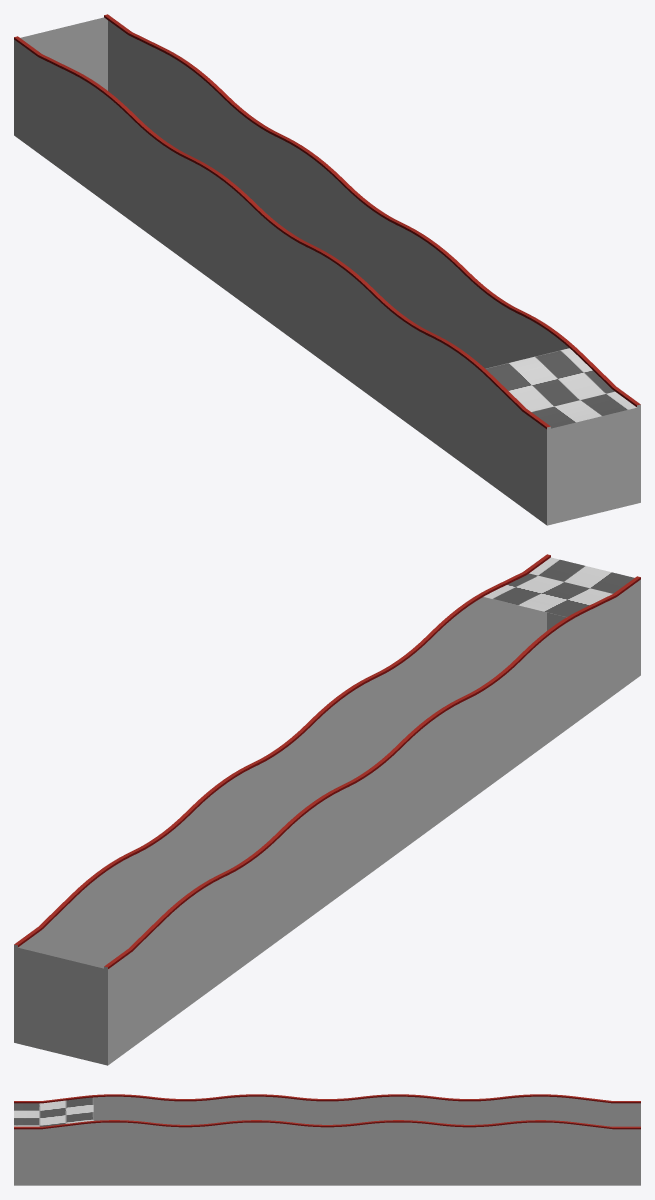
Rendered from Road_Curve_09.fbx.
3 renders of one model, top to bottom at view 1: azimuth 30°, elevation 25°; view 2: azimuth 150°, elevation 25°; view 3: azimuth 270°, elevation 25°, orthographic. The views are drawn at different scales.
Visible parts, largest first — view 1: Road_Curve_09, Road_Curve_09_Border; view 2: Road_Curve_09, Road_Curve_09_Border; view 3: Road_Curve_09, Road_Curve_09_Border.
Part boxes in pixels (x1=…): Road_Curve_09: x1=14, y1=17, x2=640, y2=525; Road_Curve_09_Border: x1=14, y1=14, x2=640, y2=429; Road_Curve_09: x1=14, y1=557, x2=640, y2=1065; Road_Curve_09_Border: x1=14, y1=554, x2=640, y2=969; Road_Curve_09: x1=14, y1=1096, x2=640, y2=1185; Road_Curve_09_Border: x1=14, y1=1094, x2=640, y2=1129.
Bounding box in the file's own units: 876 × 977 × 8616.
